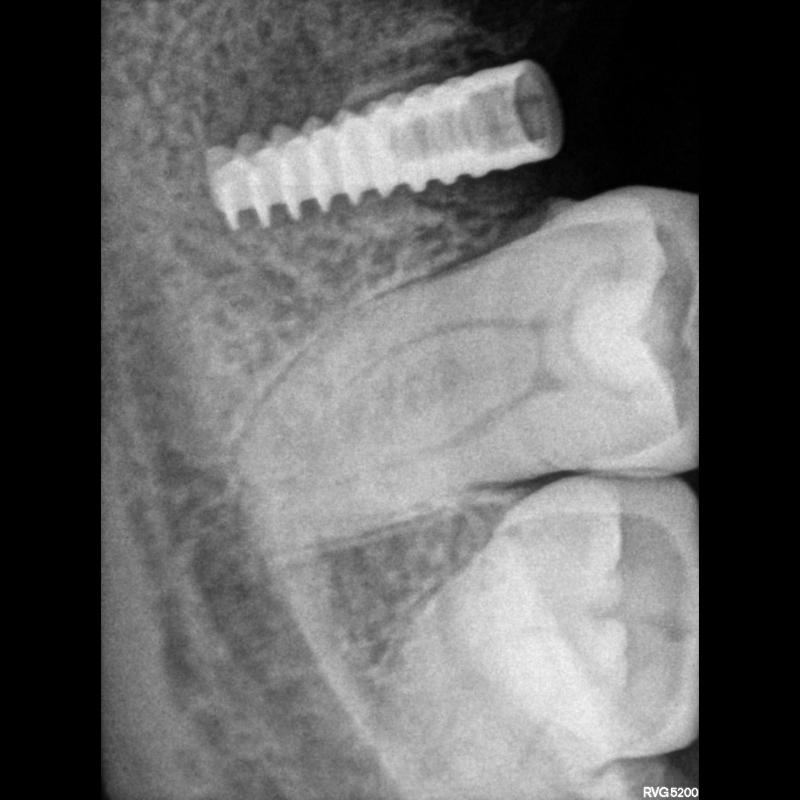ADIN: (205, 50, 573, 238)
